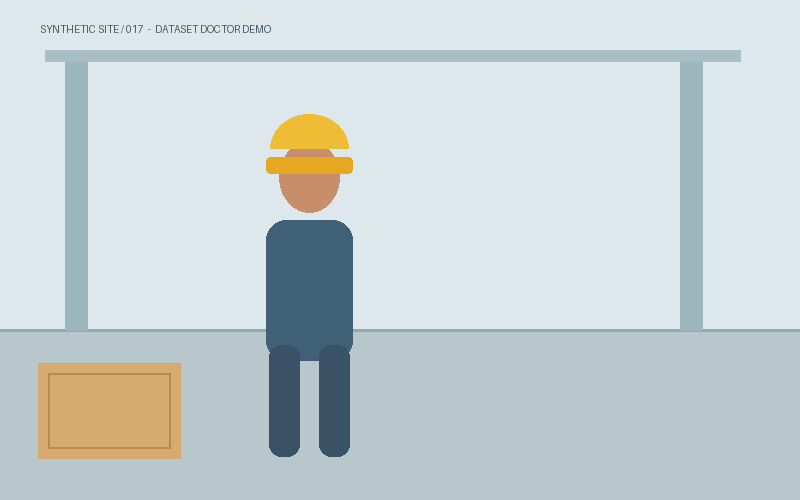Safety-Helmet: (266, 127, 352, 173)
